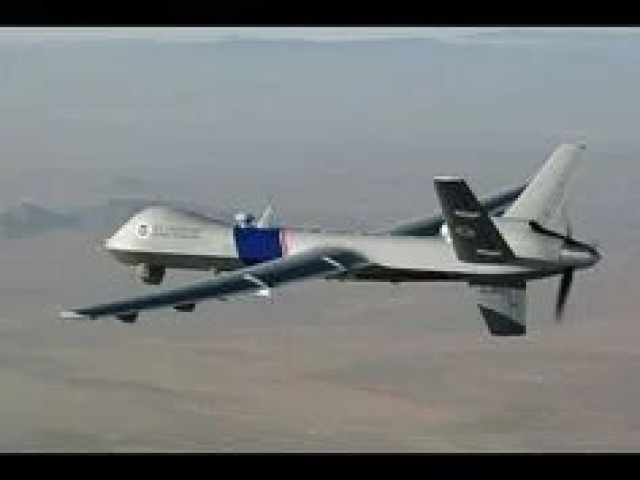military drone: (56, 139, 601, 336)
